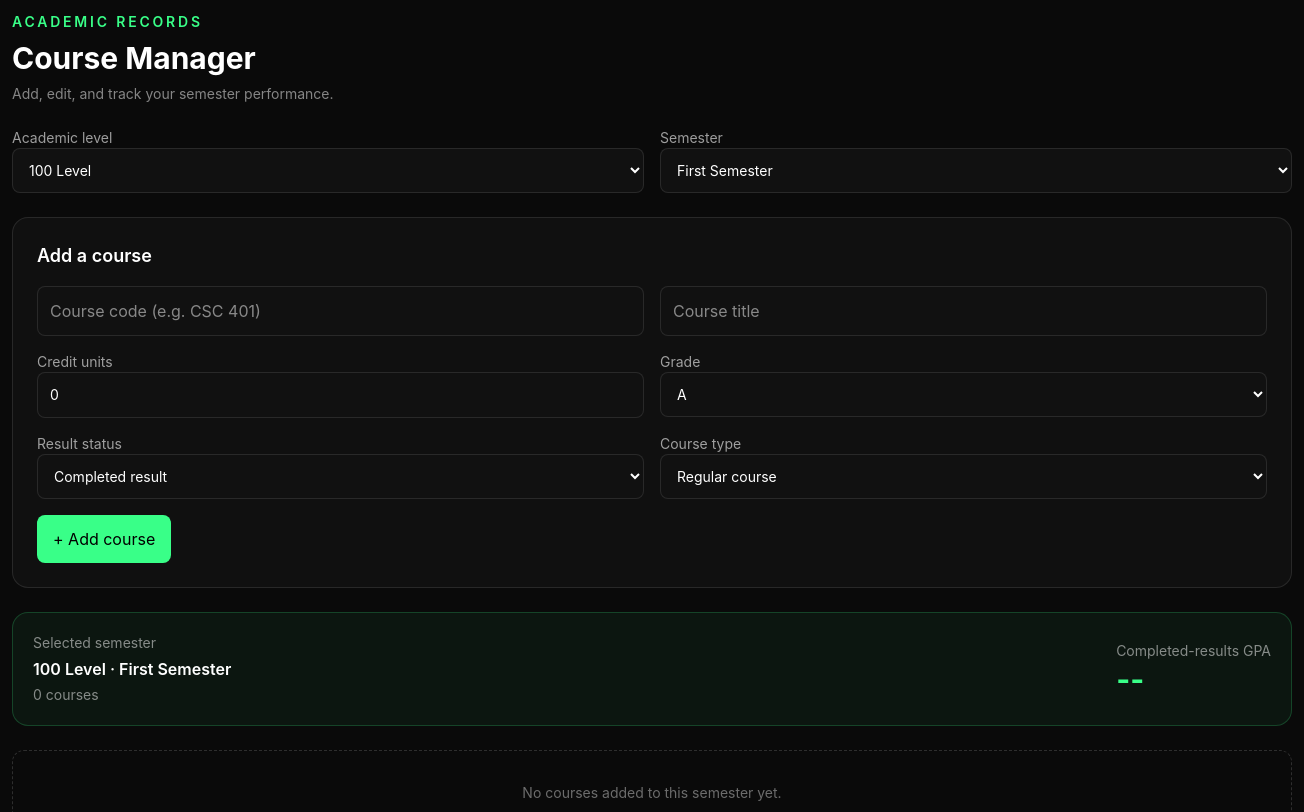
Test: CourseManager › rejects negative credit units
The image size is (1304, 812).
In the field with placeholder "Course code (e.g. CSC 401)": (340, 311) left=37, top=286, right=644, bottom=336, type "CSC 401"
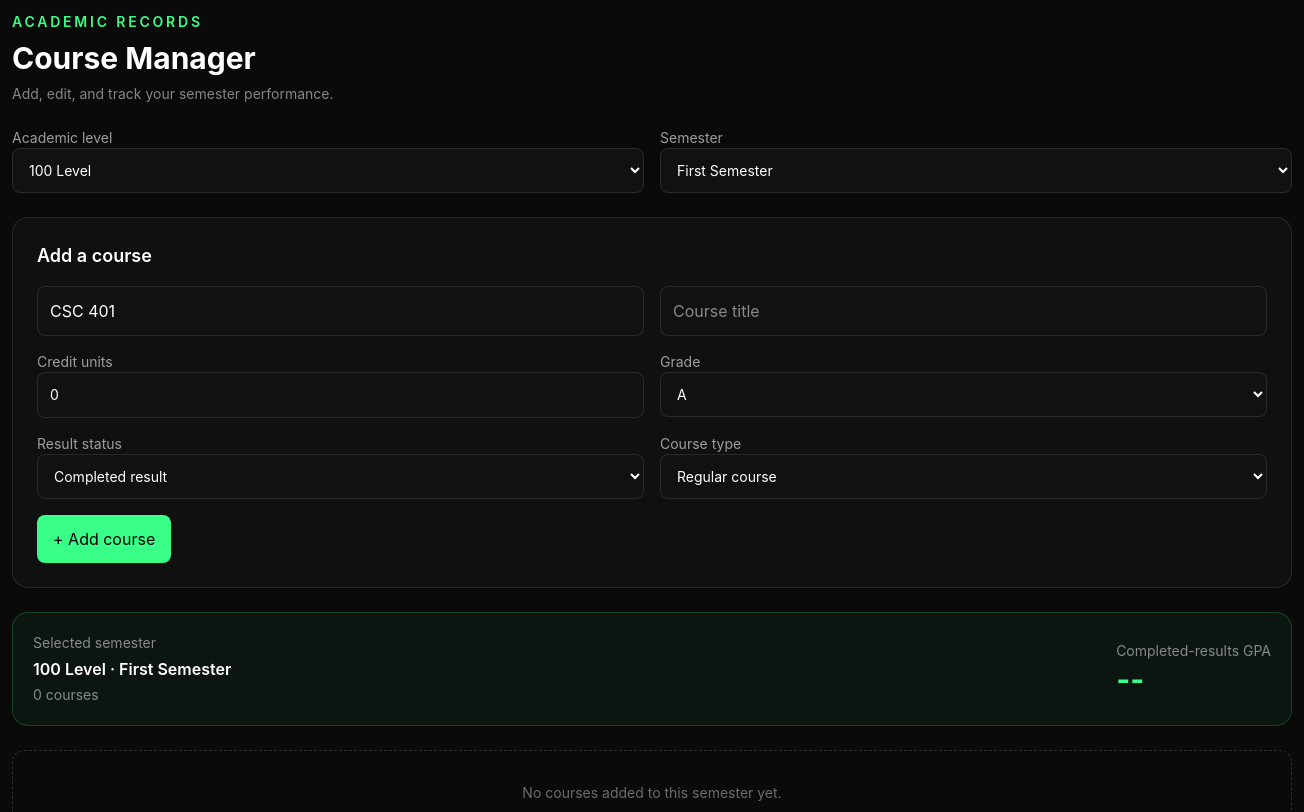
In the field with placeholder "Course title": (964, 311) left=660, top=286, right=1267, bottom=336, type "Software Engineering"
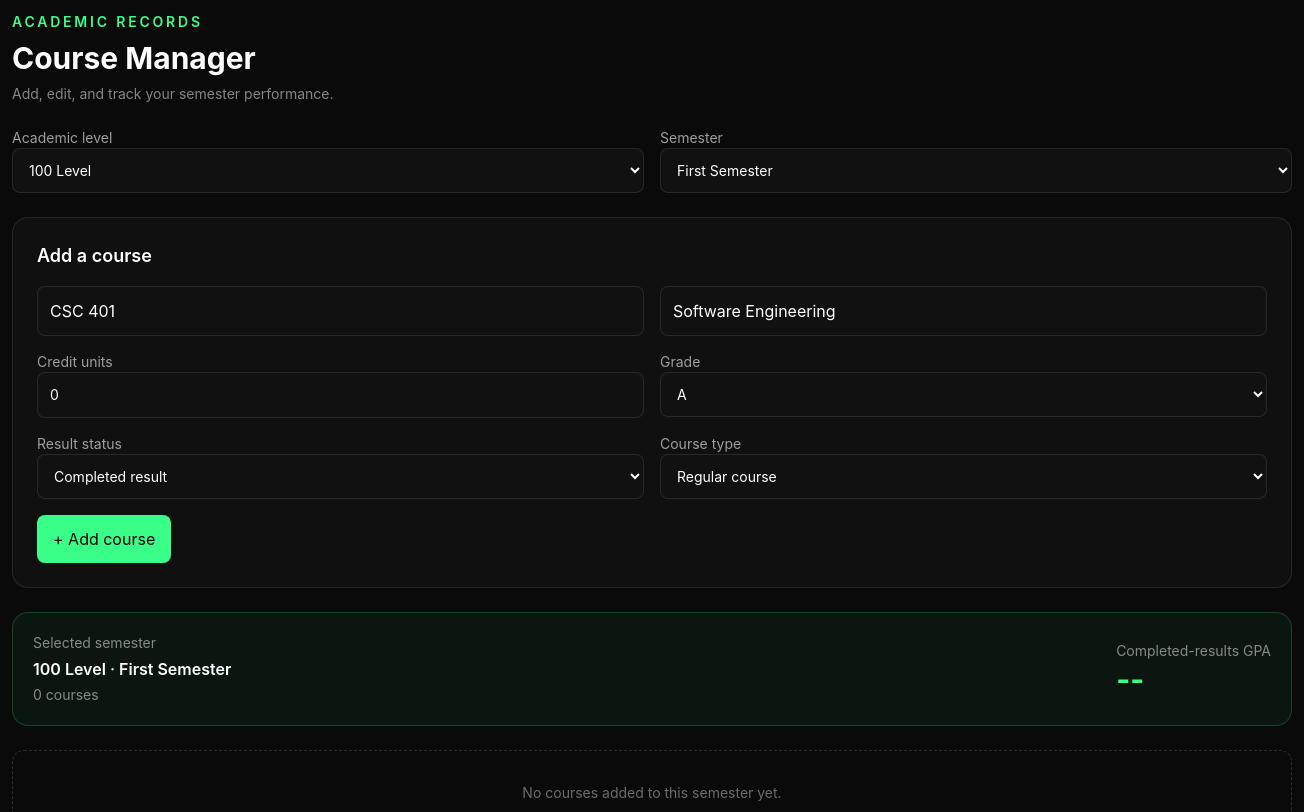
Replace the text in the number field labelled "Credit units" with "-1": (340, 395) left=37, top=372, right=644, bottom=418
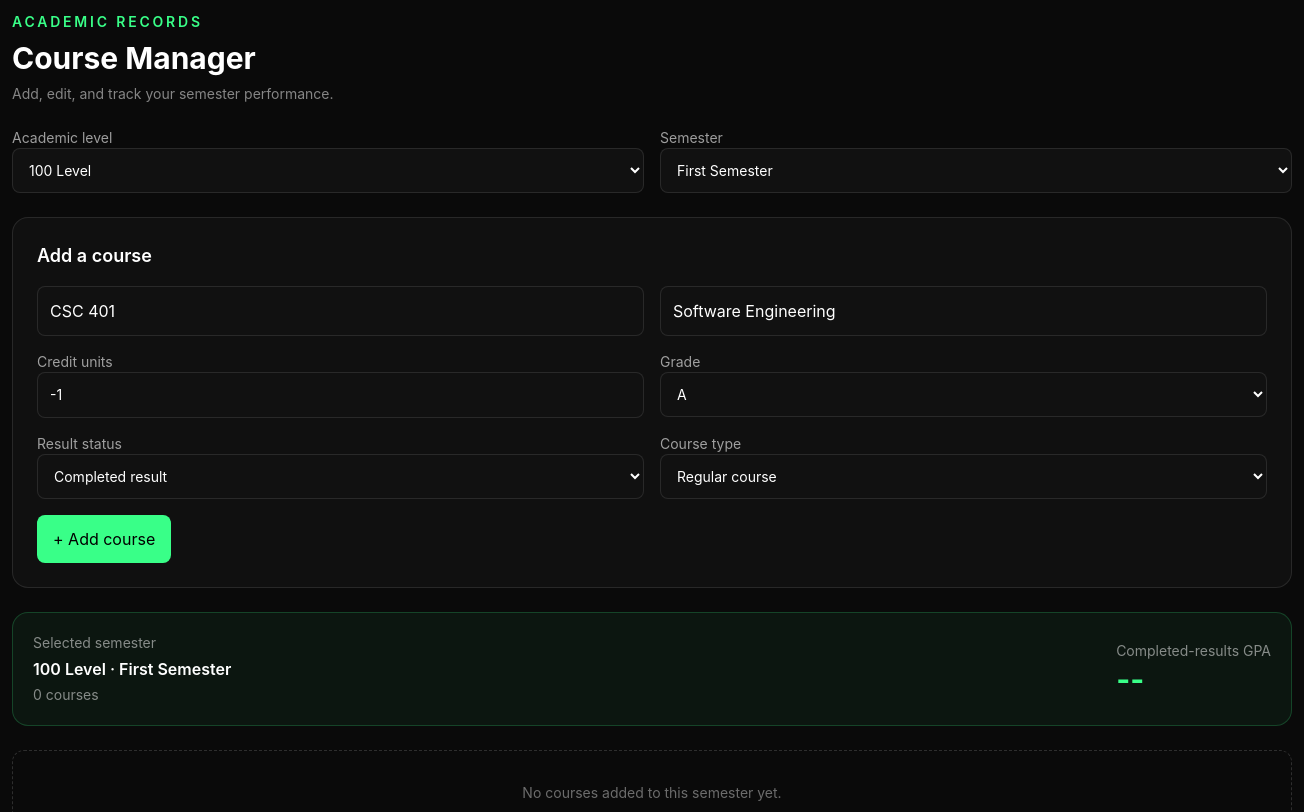
Select "A" in the dropdown labelled "Grade": (964, 394) left=660, top=372, right=1267, bottom=417
Select "Completed result" in the dropdown labelled "Result status": (340, 476) left=37, top=454, right=644, bottom=499
Select "Regular course" in the dropdown labelled "Course type": (964, 476) left=660, top=454, right=1267, bottom=499
Submit the form with id "course-form", box left=12, top=217, right=1292, bottom=588
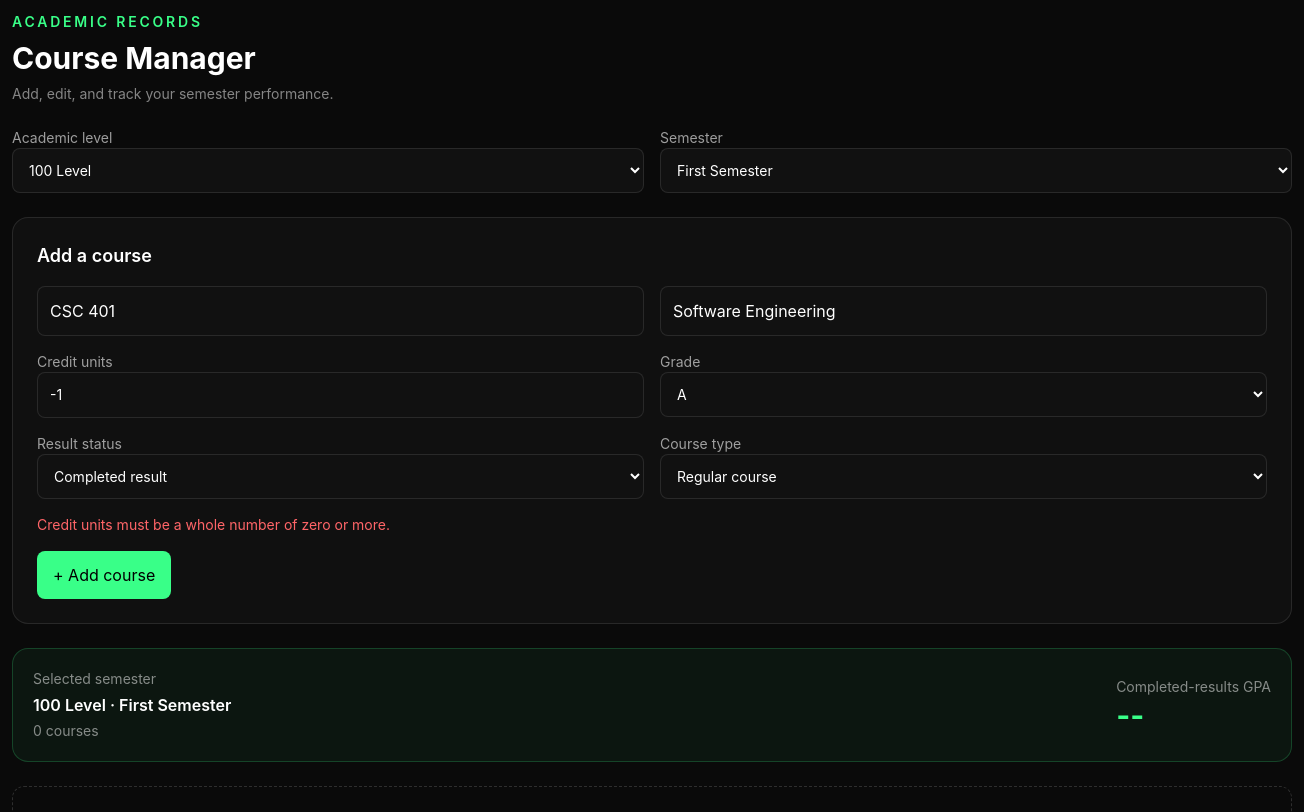
Expected: the message reads "Credit units must be a whole number of zero or more.", left=37, top=516, right=390, bottom=533
